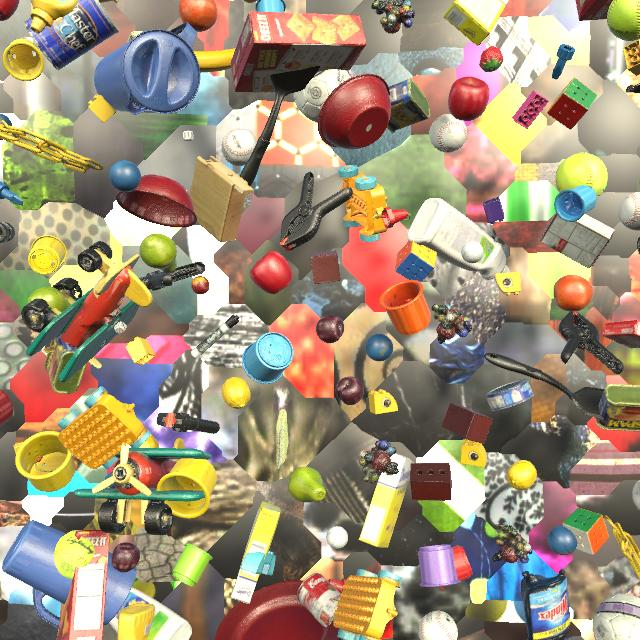ycb_002_master_chef_can: (24, 0, 119, 70)
ycb_003_cracker_box: (231, 11, 366, 92), (56, 530, 110, 640), (576, 0, 613, 21)
ycb_004_sugar_box: (359, 453, 415, 548), (230, 501, 281, 604), (443, 0, 509, 46)
ycb_005_tomato_soup_can: (297, 573, 341, 627)
ycb_006_mustard_bottle: (30, 0, 78, 34), (117, 603, 155, 640)
ycb_007_tuna_fish_can: (486, 379, 534, 411)
ycb_008_pudding_box: (540, 213, 616, 269)
ycb_009_gelatin_box: (603, 320, 640, 348)
ycb_010_potted_meat_can: (44, 334, 87, 394), (387, 78, 430, 133), (595, 384, 640, 432)
ycb_011_banana: (194, 48, 236, 73)
ycb_012_strawberry: (479, 46, 503, 72)
ycb_013_apple: (249, 251, 293, 294), (448, 76, 490, 121), (0, 0, 20, 21)
ycb_014_lemon: (506, 460, 537, 490), (222, 377, 251, 409), (131, 434, 159, 448), (639, 179, 640, 182)
ycb_015_peach: (244, 0, 258, 3)
ycb_016_pear: (140, 233, 177, 273), (288, 466, 326, 502), (28, 287, 71, 313)
ycb_017_orange: (553, 275, 593, 312), (179, 0, 218, 32)
ycb_018_plum: (111, 542, 140, 573), (336, 376, 364, 405), (316, 314, 344, 343)
